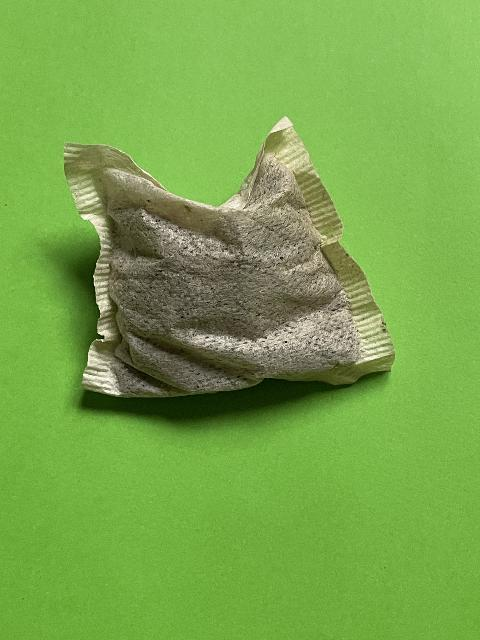teabag: (63, 114, 400, 402)
